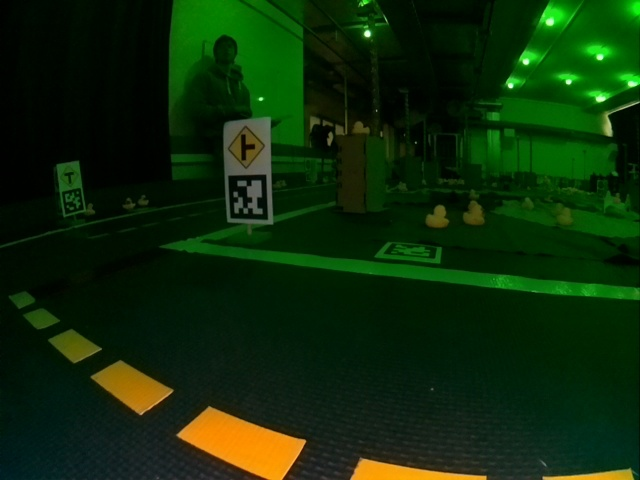Duckie: (426, 205, 449, 226), (558, 208, 574, 225), (467, 208, 483, 224), (86, 203, 96, 216), (122, 197, 133, 208), (137, 195, 149, 205)
Intersection sign: (226, 124, 266, 169), (59, 165, 80, 187)
QR code: (227, 174, 269, 222), (375, 241, 441, 264), (61, 189, 85, 215)
